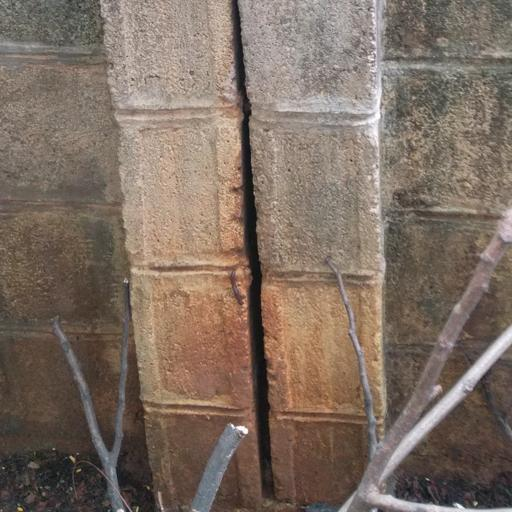major_crack: (215, 0, 309, 508)
